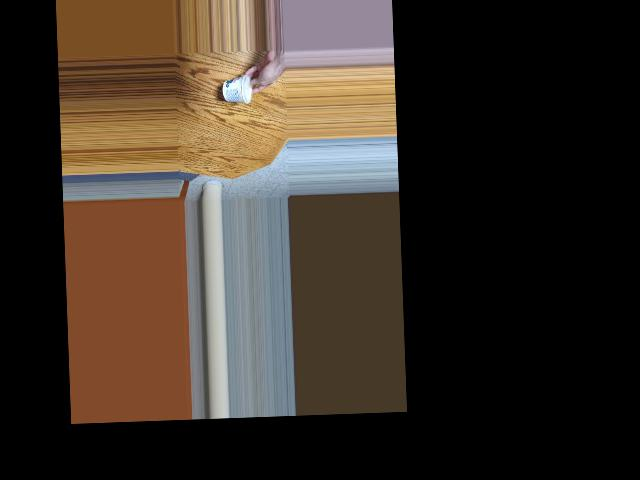cotage: (226, 74, 252, 107)
